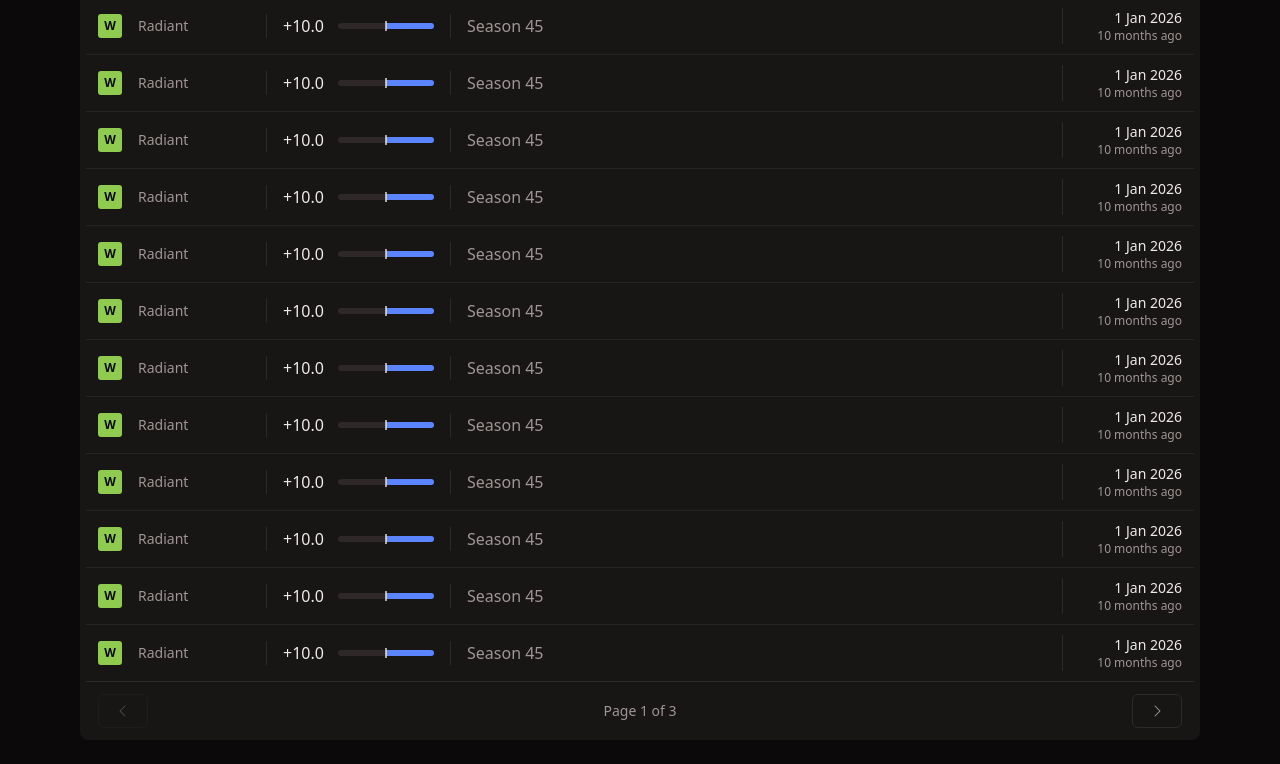
Scenario: pages older and back newer
(page scrolled)
Check: the button named "Newer" is disabled, box [98,694,148,728]
Click the button named "Older".
click(1157, 711)  # box [1132,694,1182,728]
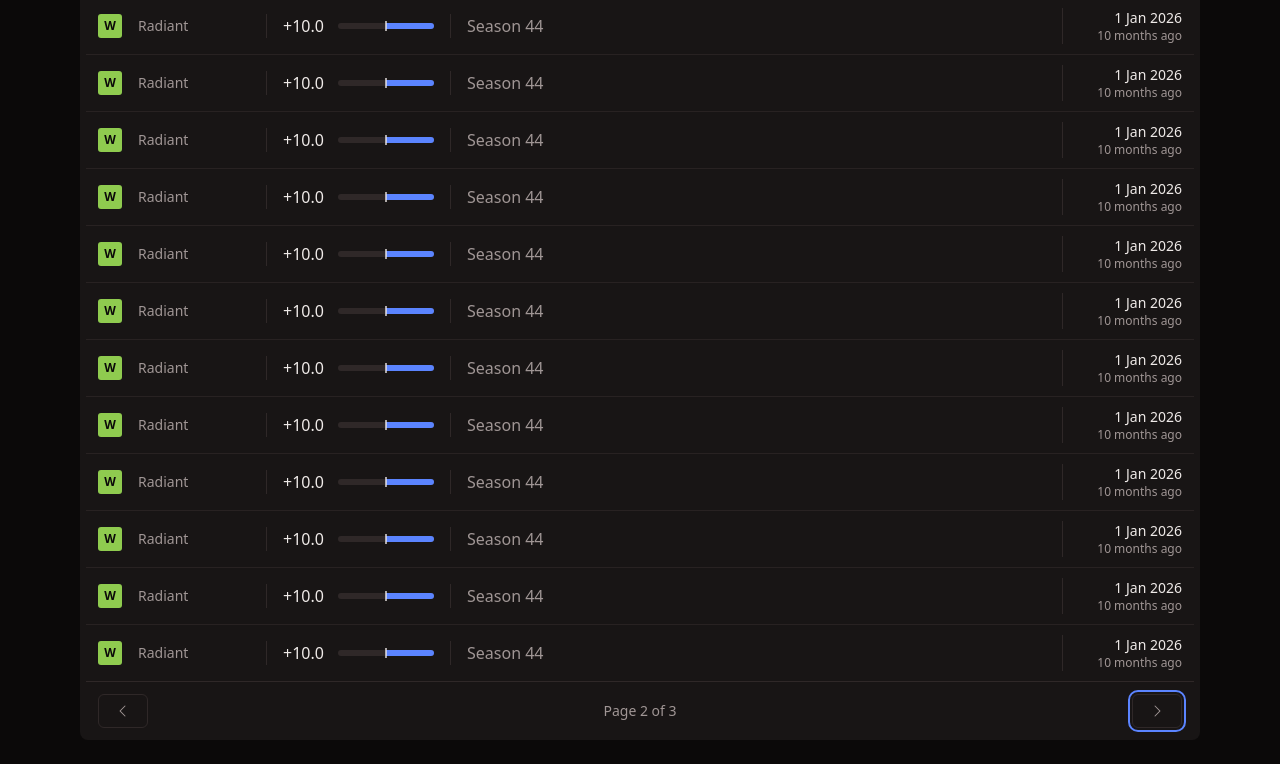
Check: the text "Page 2 of 3" is shown, box [604,701,677,721]
Click the button named "Older".
click(1157, 711)  # box [1132,694,1182,728]
(page scrolled)
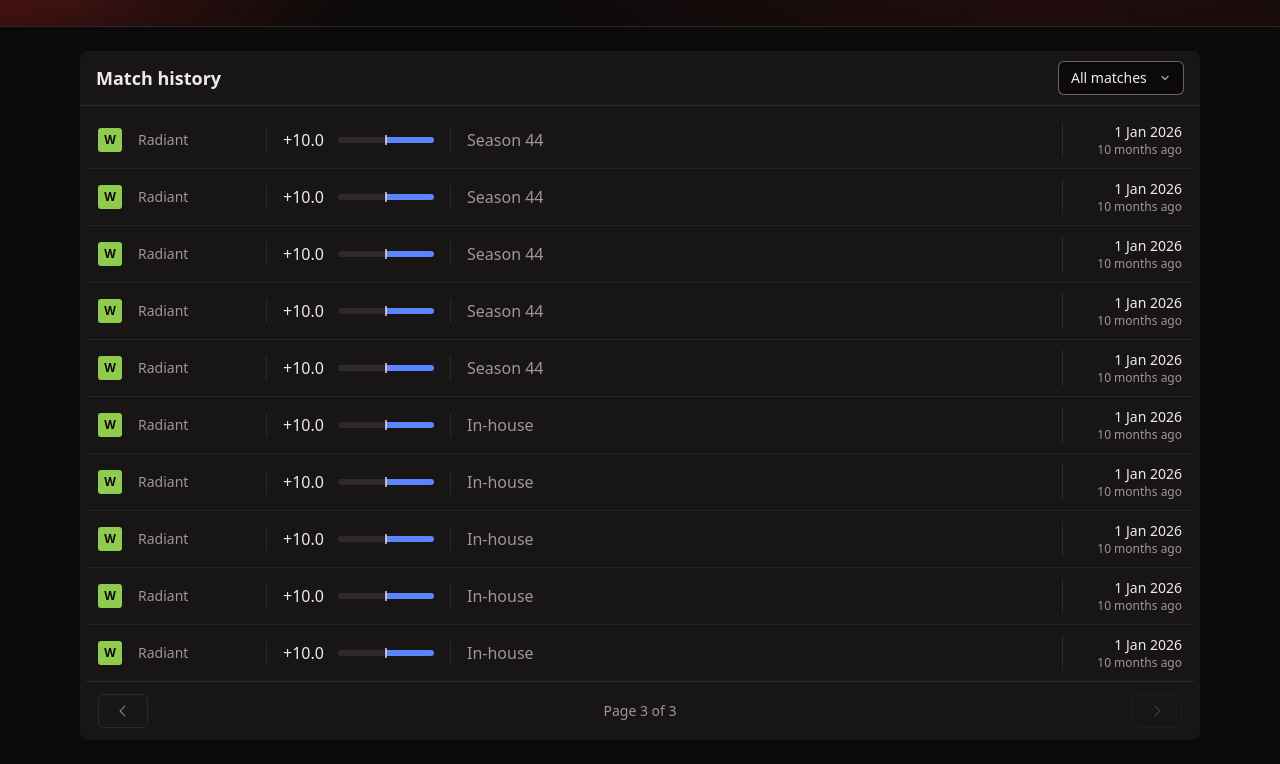
Click the button named "Newer".
click(123, 711)  # box [98,694,148,728]
(page scrolled)
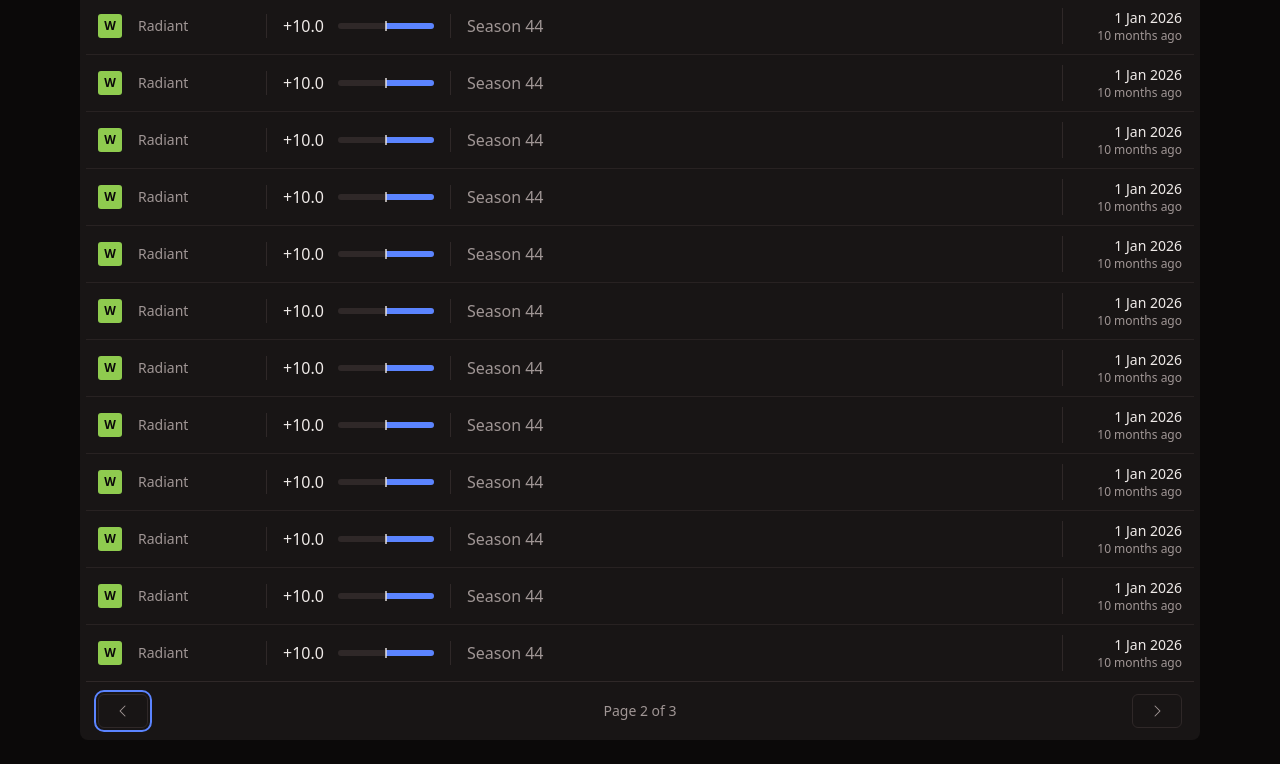
Check: the text "Page 2 of 3" is shown, box [604,701,677,721]
